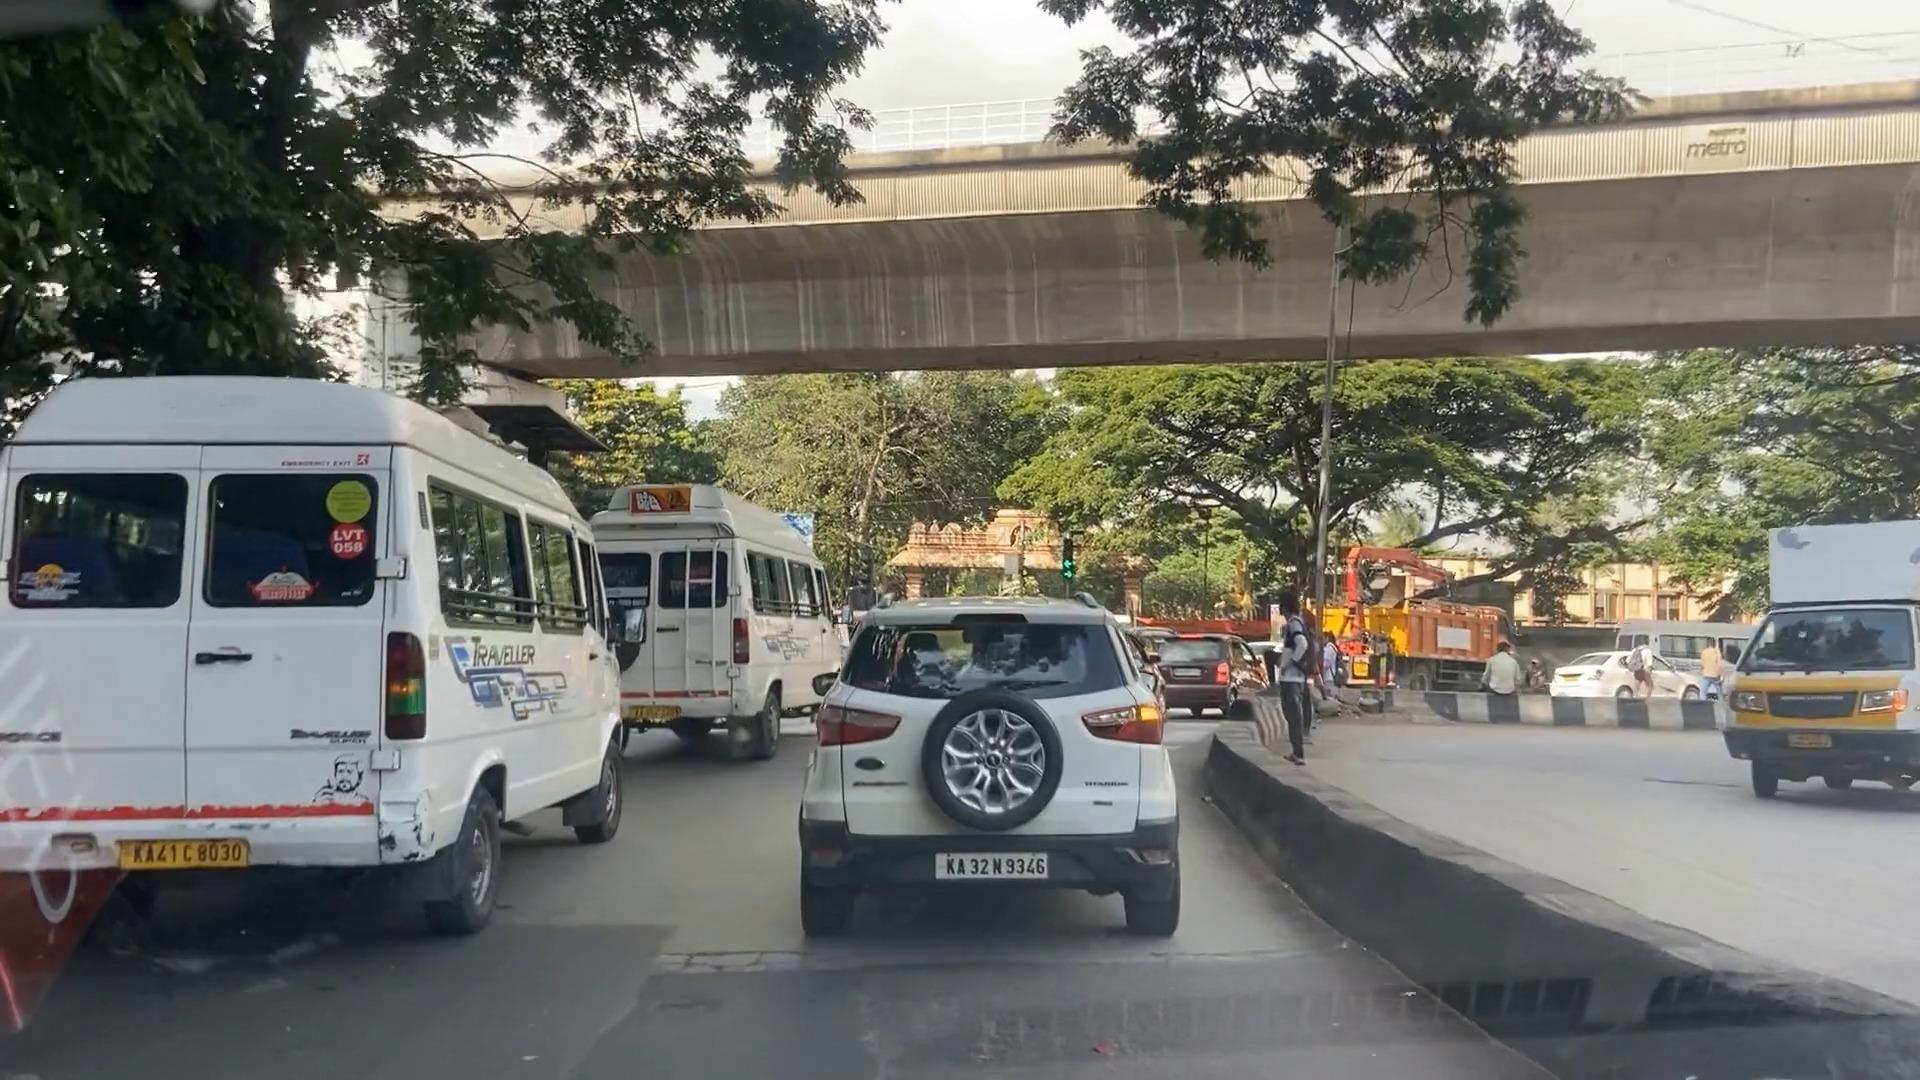HMV: (13, 426, 605, 943), (596, 513, 810, 744)
LMV: (815, 625, 1163, 926)
